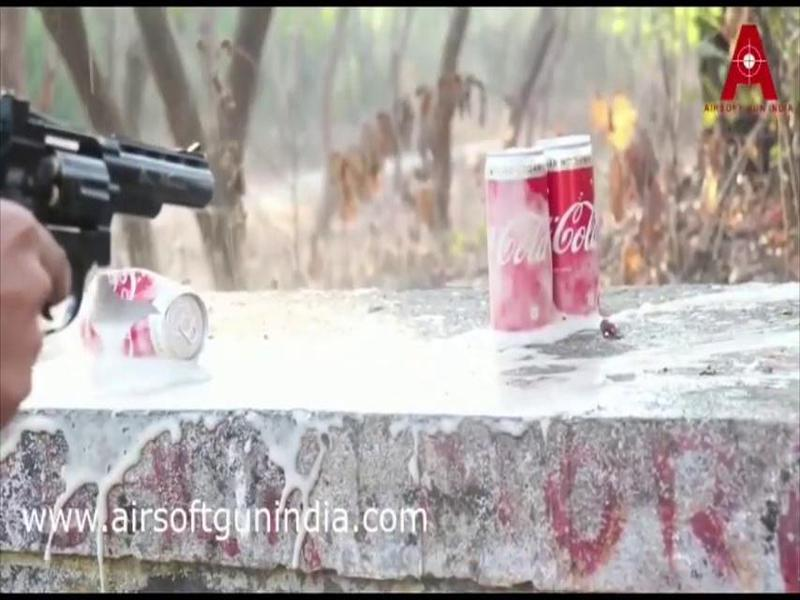Revolver: (7, 78, 229, 333)
